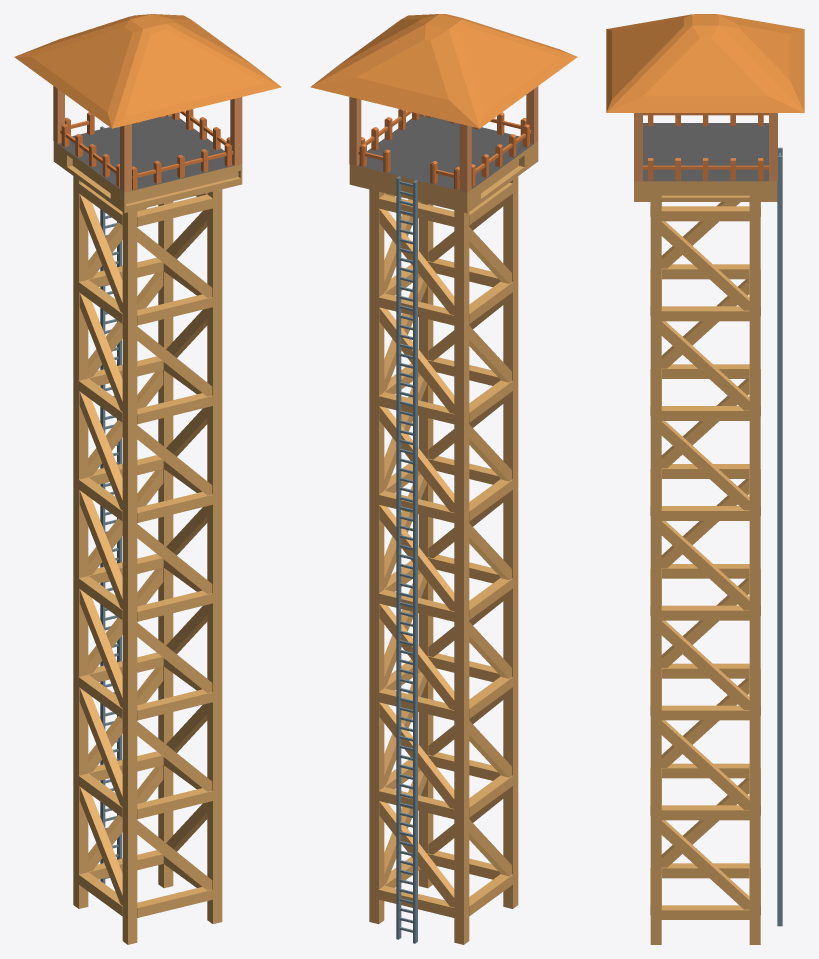
Rendered from high-rise tower.glb.
3 views of the same model, side by side, from view 1: azimuth 30°, elevation 25°; view 2: azimuth 150°, elevation 25°; view 3: azimuth 270°, elevation 25° (orthographic).
Visible parts, largest first — view 1: mesh; view 2: mesh; view 3: mesh.
Part boxes in pixels (x1,y1,x2,y2): mesh: (14,14,281,944); mesh: (310,14,577,944); mesh: (606,14,804,944).
Bounding box in the file's own units: 7.2 × 36.13 × 7.2.
